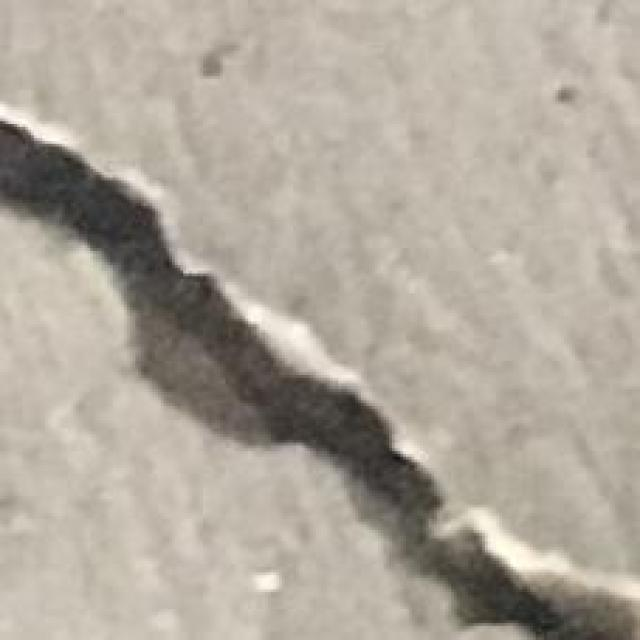diagonal crack: (0, 124, 564, 637)
